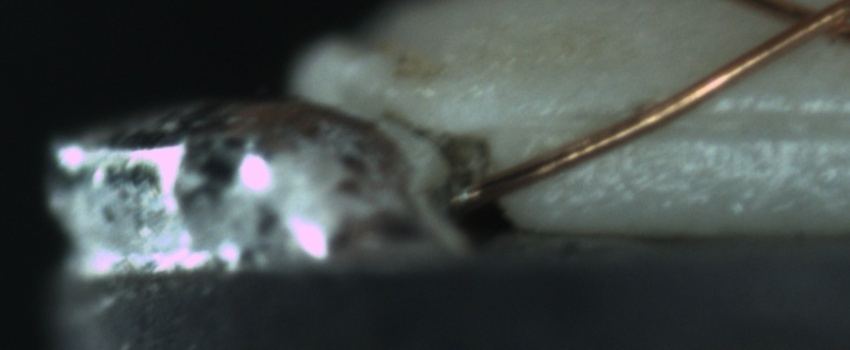CL: (764, 0, 847, 48)
DL: (545, 85, 846, 156)
